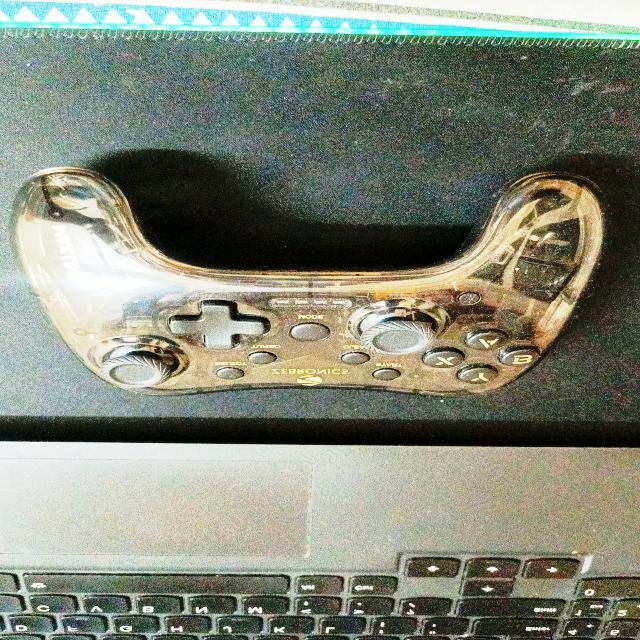gamepad: (13, 165, 606, 399)
